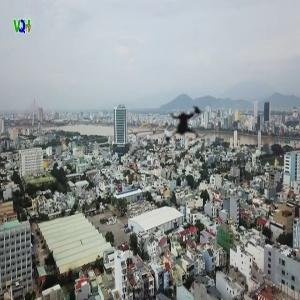drone: (138, 81, 234, 177)
